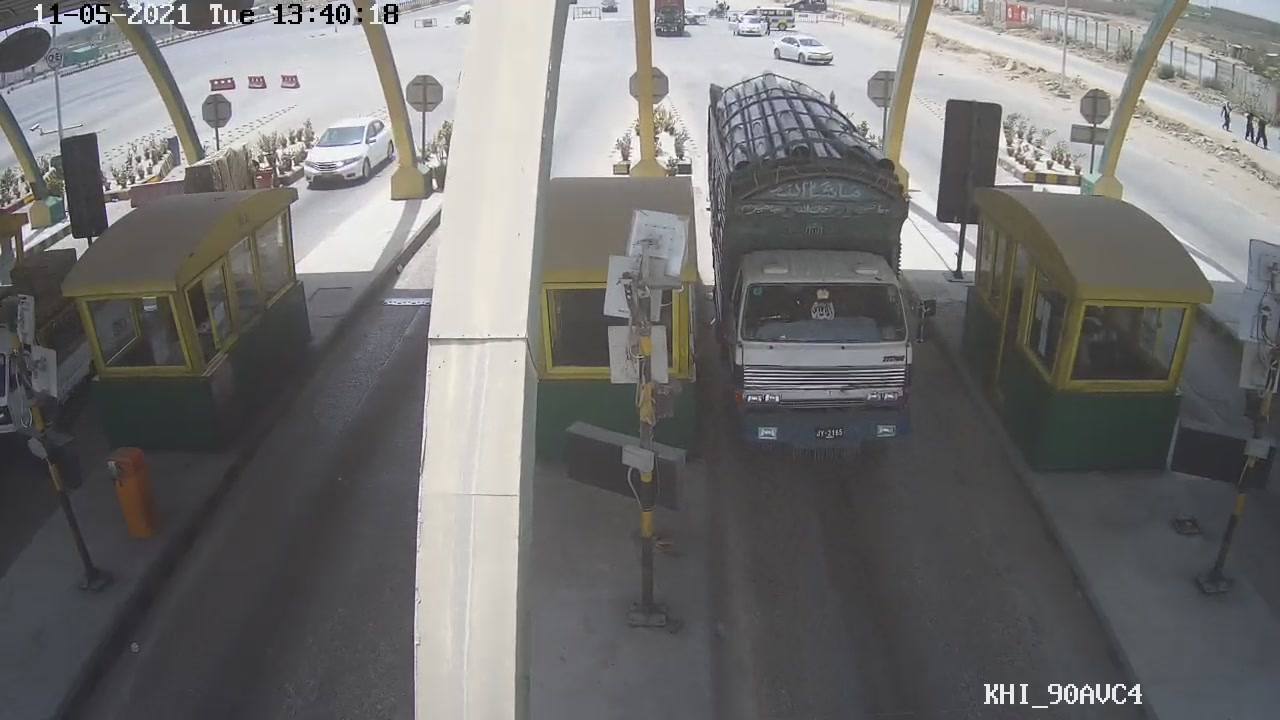F5: (698, 72, 944, 466)
